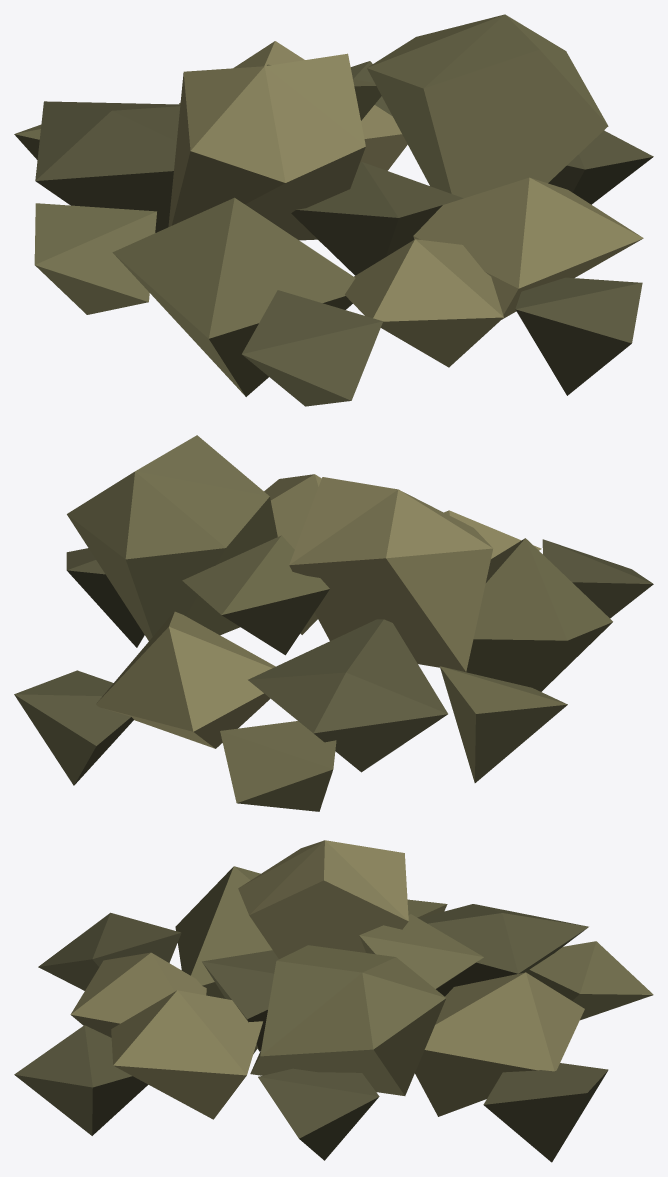
Rendered from SM_Env_Plant_03.fbx.
3 views of the same model, one above another, from view 1: azimuth 30°, elevation 25°; view 2: azimuth 150°, elevation 25°; view 3: azimuth 270°, elevation 25° (orthographic). The views are drawn at different scales.
Visible parts, largest first — view 1: SM_Env_Plant_03; view 2: SM_Env_Plant_03; view 3: SM_Env_Plant_03.
Part boxes in pixels (<box>): SM_Env_Plant_03: <box>14,14,653,406</box>; SM_Env_Plant_03: <box>14,435,653,811</box>; SM_Env_Plant_03: <box>14,840,653,1162</box>.
Size of the model in its own units: 136 by 63.88 by 154.
